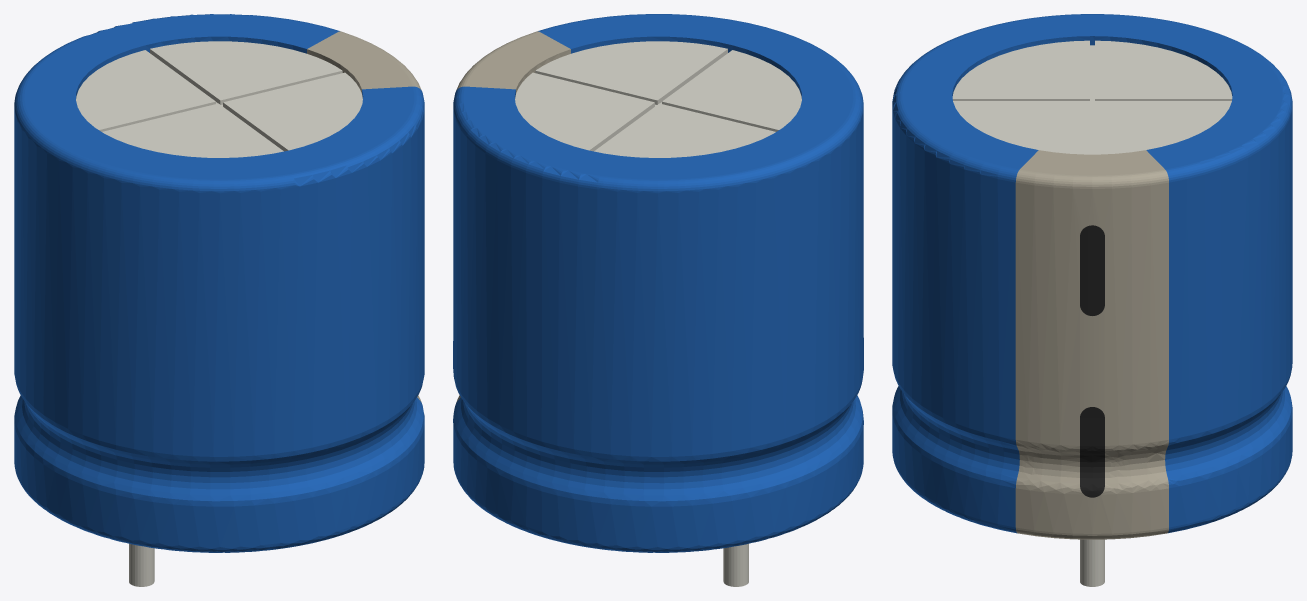
3 renders of one model, left to right at view 1: azimuth 30°, elevation 25°; view 2: azimuth 150°, elevation 25°; view 3: azimuth 270°, elevation 25°, orthographic. The views are drawn at different scales.
Parts seen in each view (by area): view 1: c1_1, c1_0, c1_2; view 2: c1_1, c1_0, c1_2; view 3: c1_1, c1_2, c1_0, c1_3.
Boxes of the visible parts, x1,y1,x2,y2 form: c1_1: (14, 14, 424, 552); c1_0: (76, 41, 362, 586); c1_2: (307, 31, 421, 402); c1_1: (453, 14, 863, 552); c1_0: (515, 41, 801, 586); c1_2: (456, 31, 570, 402); c1_1: (892, 14, 1292, 533); c1_2: (1015, 150, 1168, 539); c1_0: (952, 40, 1232, 586); c1_3: (1080, 225, 1104, 497).
Bounding box in the file's own units: 8 × 10 × 8.
